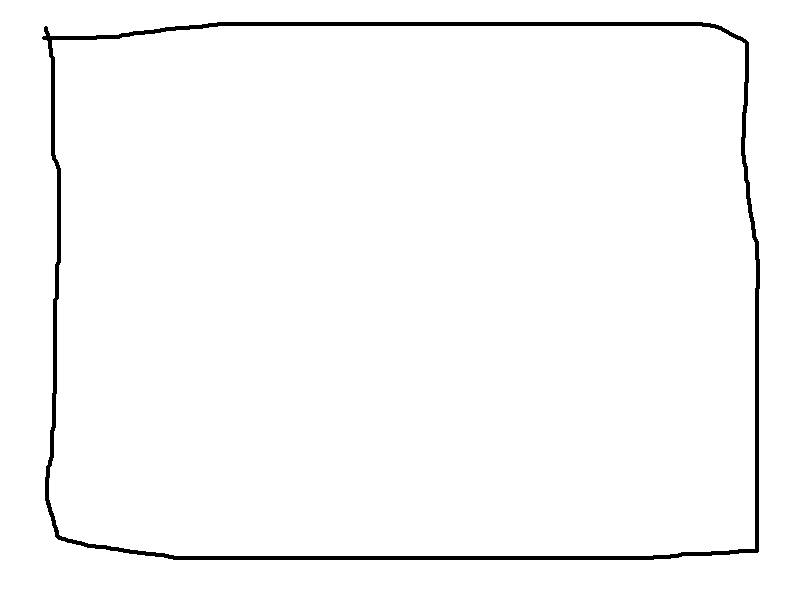rect: (37, 11, 767, 564)
